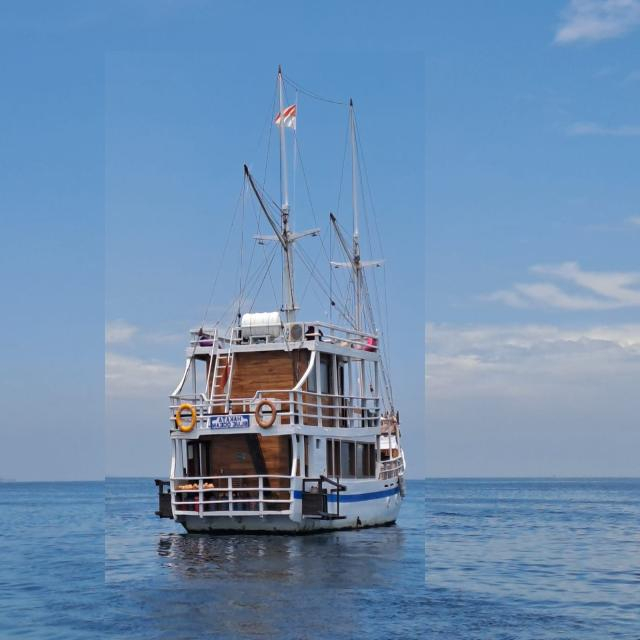Fishing Boat: (105, 51, 425, 590)
